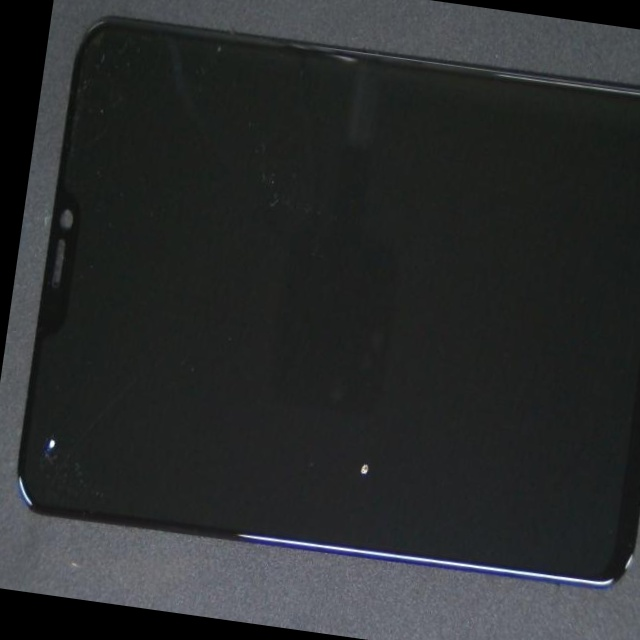stain: (171, 183, 579, 640), (8, 151, 115, 596)
